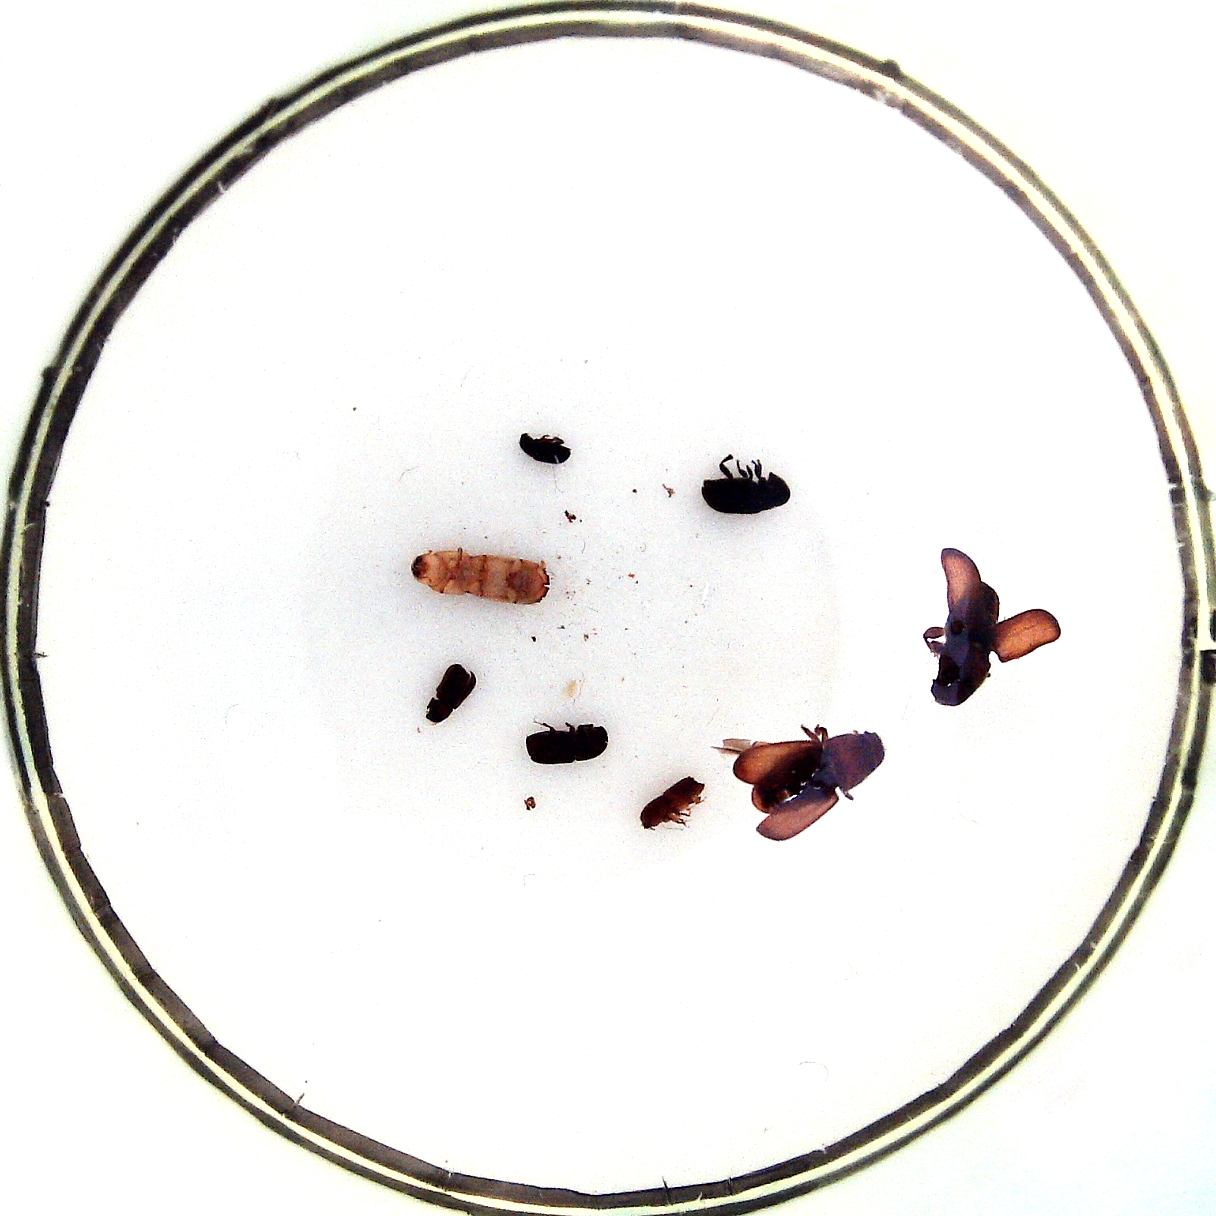Boerner: (411, 547, 550, 606)
Leconte: (751, 730, 885, 814), (932, 582, 1001, 706)
acuminatus: (426, 661, 475, 722), (519, 432, 572, 465)
armandi: (702, 473, 791, 514)
coleoptera: (641, 775, 705, 828)
linnaeus: (524, 722, 609, 765)
